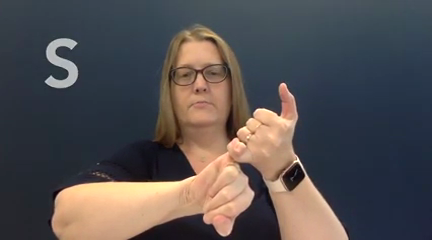S: (188, 76, 305, 239)
